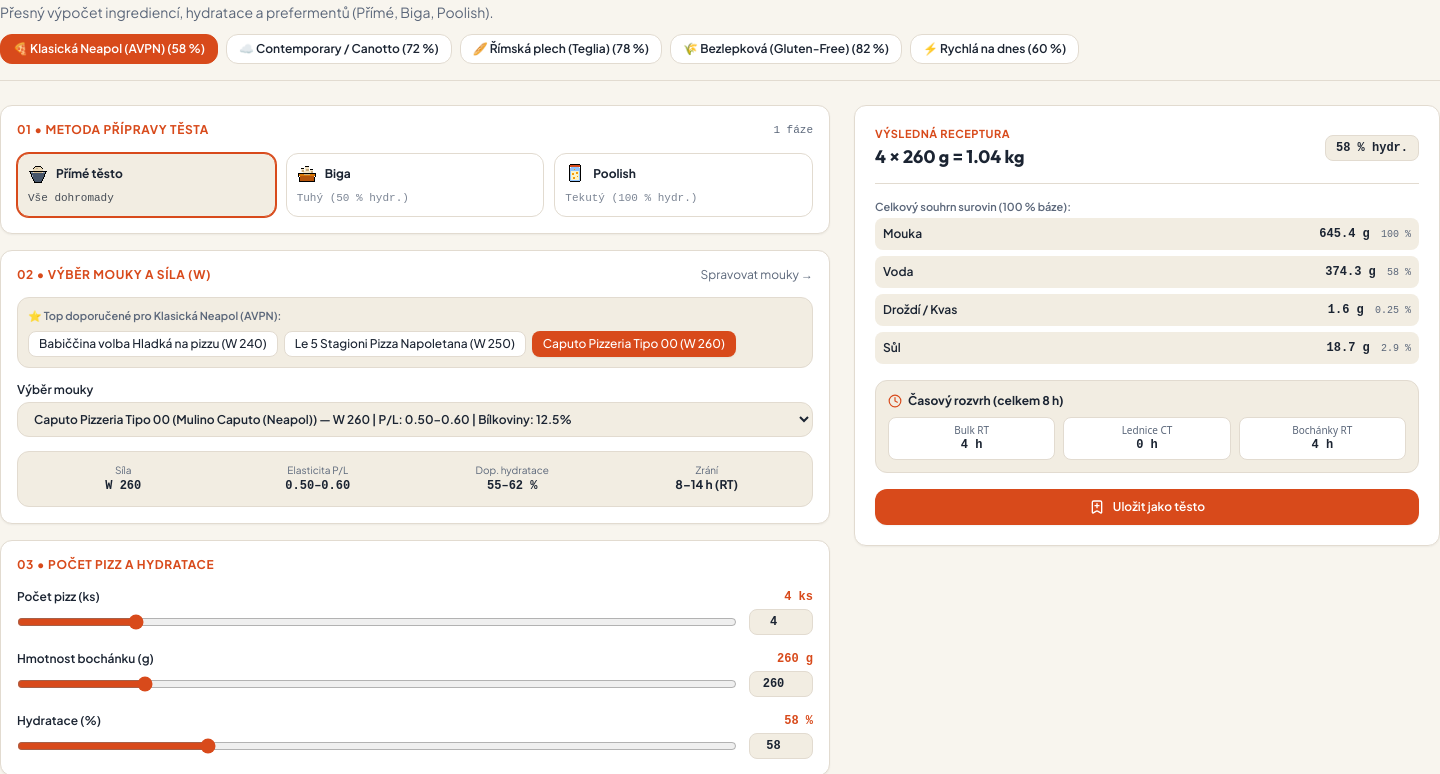
Test: CalculatorPage Component › displays Metoda přípravy těsta, allows Biga hydration adjustment and oven selection
Expected: the text "01 • Metoda přípravy těsta" is shown, x1=17 y1=122 x2=209 y2=138
Select Biga and check hydration slider
Step 1. Click the text "Biga" → [338, 174], box x1=325 y1=166 x2=351 y2=182
(page scrolled)
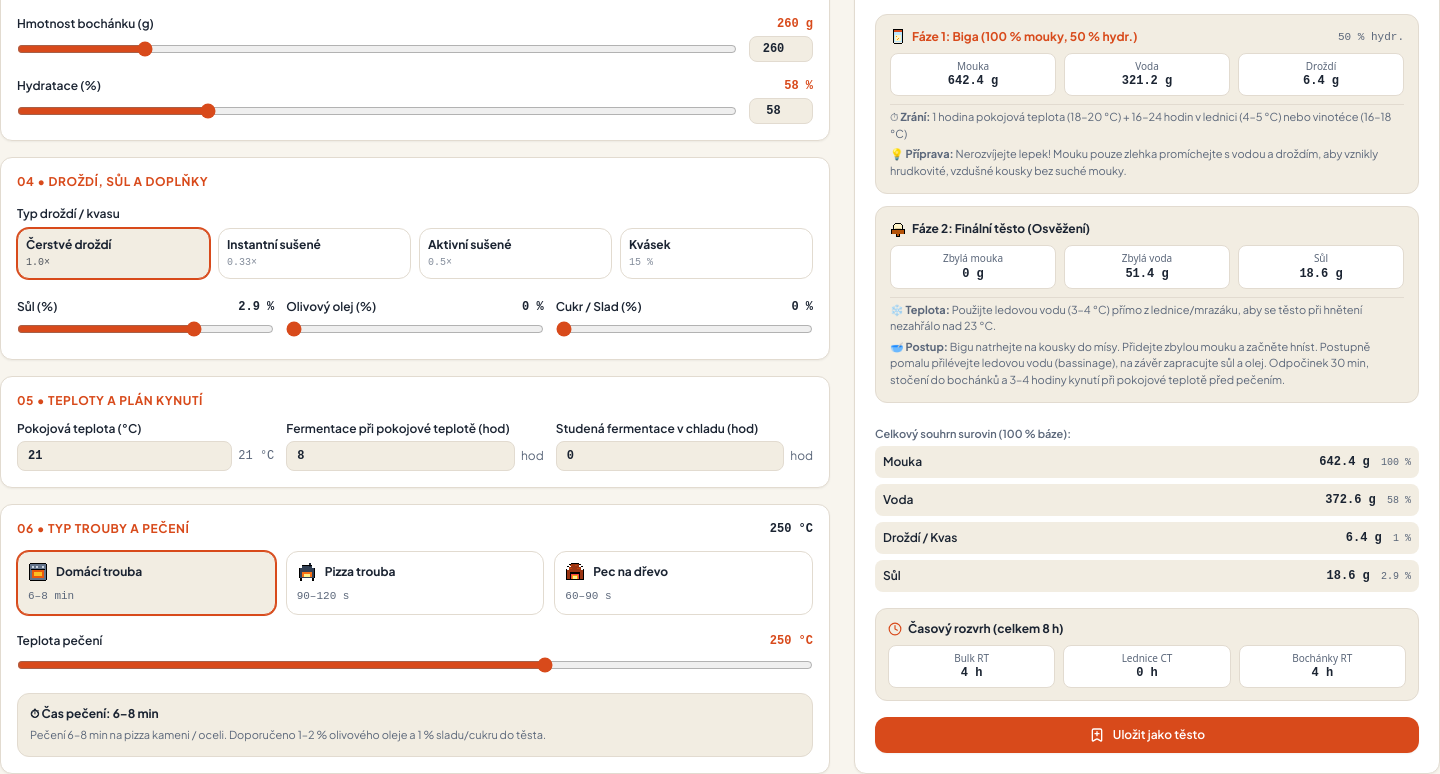
Select Wood oven (AVPN 2024 standard)
Step 2. Click the text "Pec na dřevo" → [631, 572], box x1=593 y1=564 x2=668 y2=580
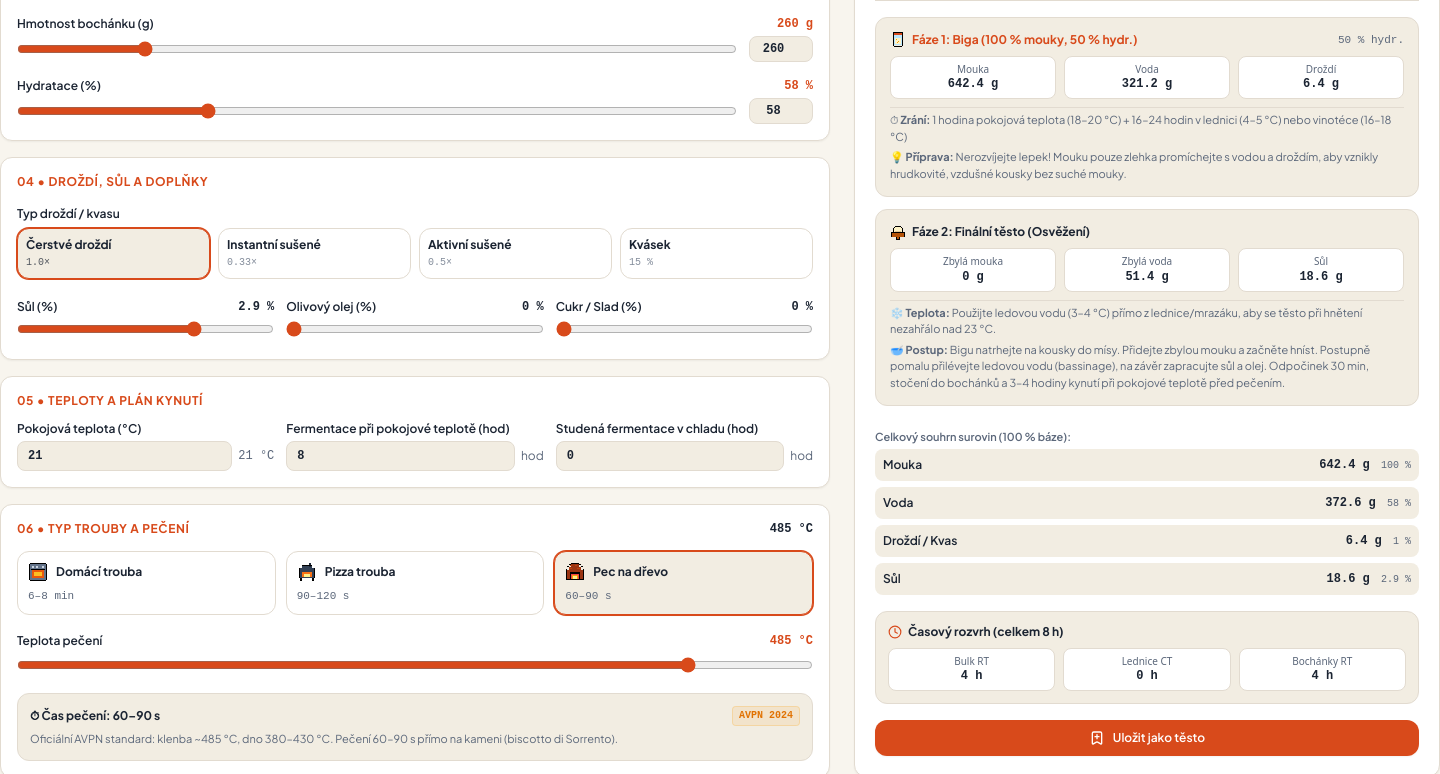
Result: the text "AVPN 2024" is shown at x1=732 y1=706 x2=800 y2=726
